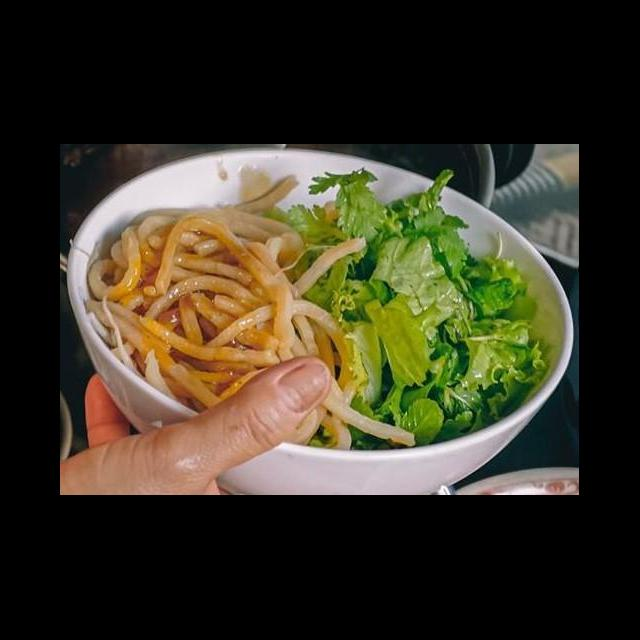mi: (82, 170, 372, 454)
